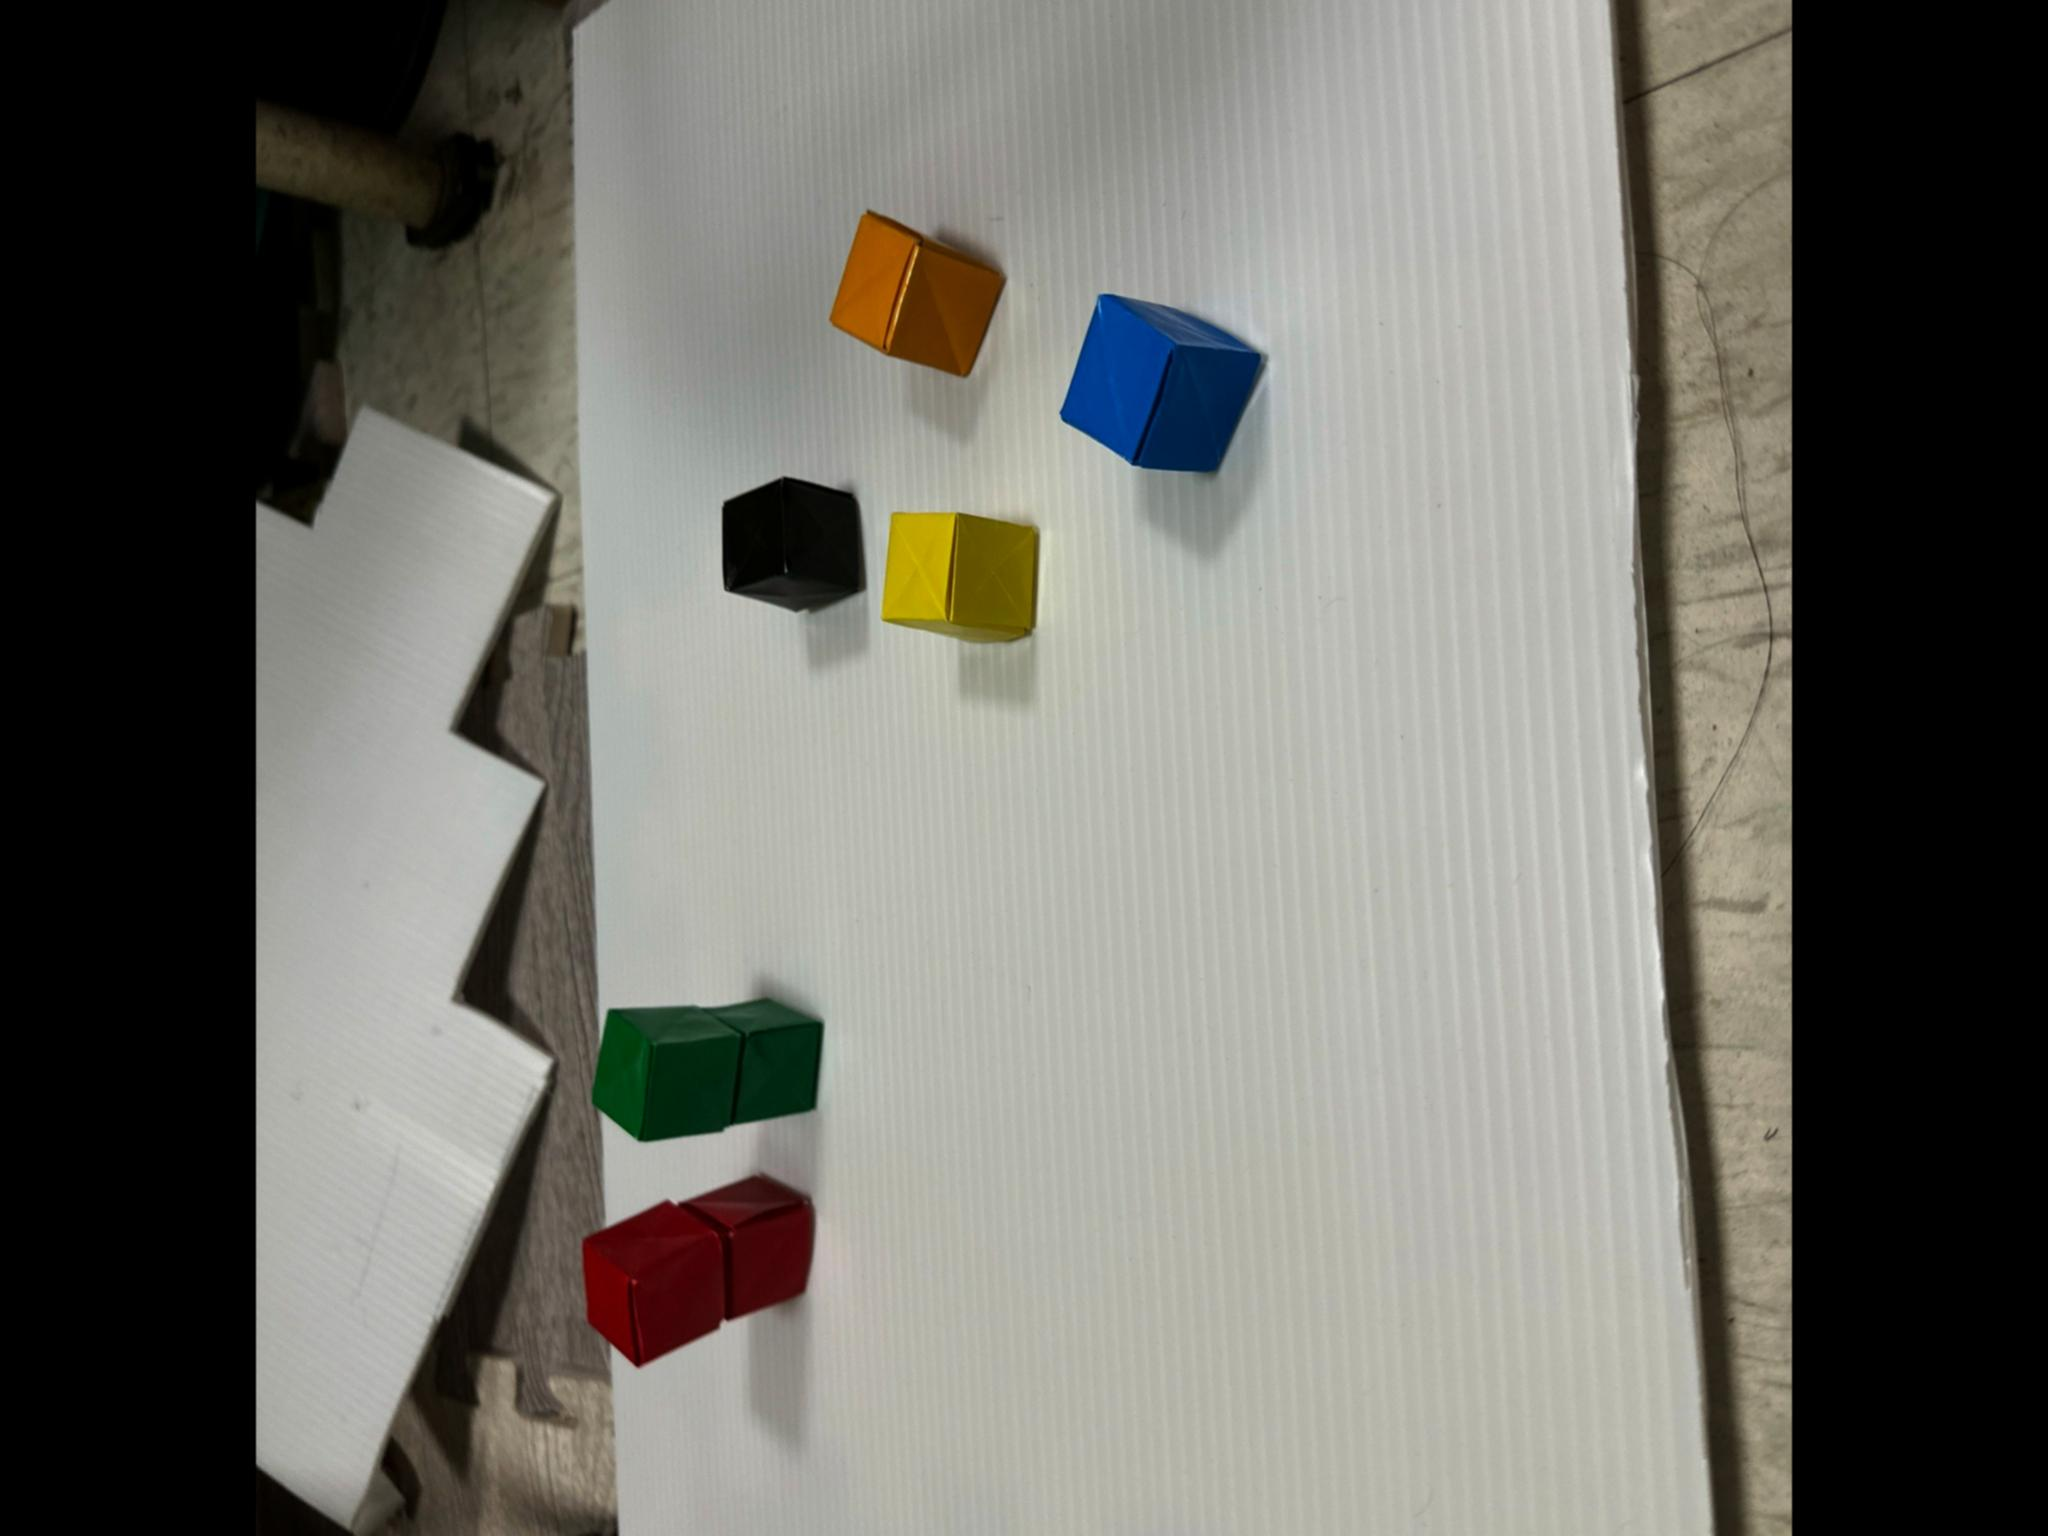cube: (1061, 294, 1261, 470), (830, 211, 1001, 374), (582, 1200, 724, 1365), (882, 511, 1037, 641), (593, 1007, 742, 1141), (679, 1176, 811, 1318), (722, 478, 861, 610), (713, 999, 819, 1123)
